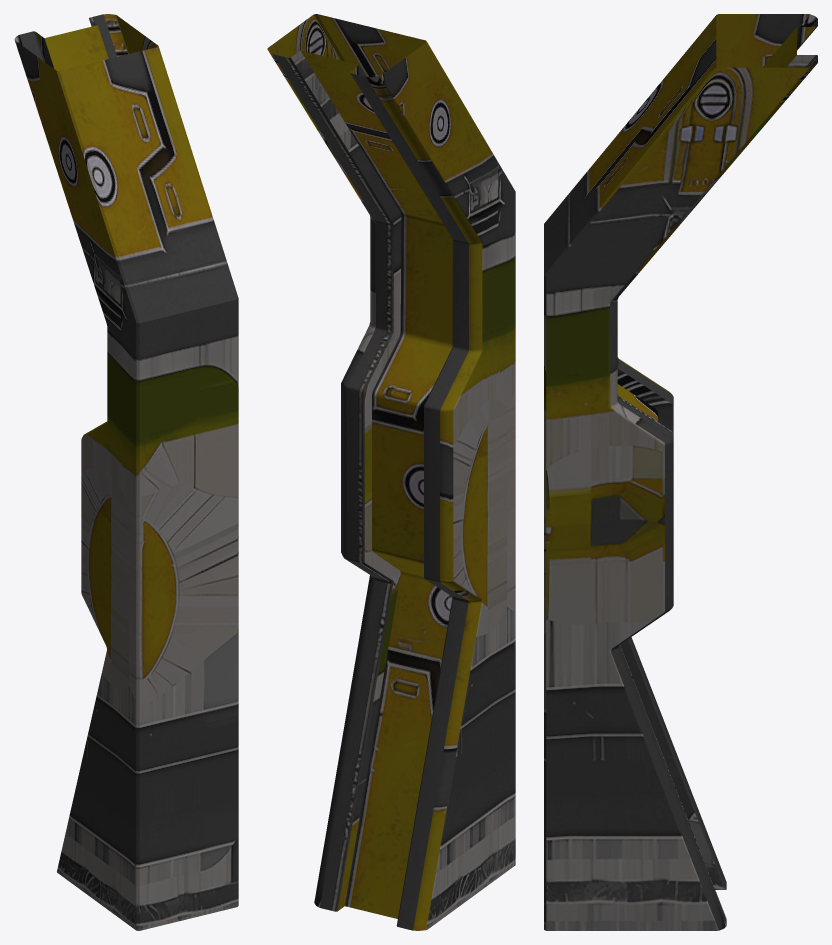
The model's file is support01.obj.
3 views of the same model, side by side, from view 1: azimuth 30°, elevation 25°; view 2: azimuth 150°, elevation 25°; view 3: azimuth 270°, elevation 25° (orthographic). The views are drawn at different scales.
Parts seen in each view (by area): view 1: doordouble01right:Mesh_0; view 2: doordouble01right:Mesh_0; view 3: doordouble01right:Mesh_0.
Boxes of the visible parts, box(x1,y1,x2,y2) form: doordouble01right:Mesh_0: box(14, 14, 238, 930); doordouble01right:Mesh_0: box(267, 14, 515, 930); doordouble01right:Mesh_0: box(544, 14, 817, 930).
Size of the model in its own units: 24.08 by 180 by 51.75.
